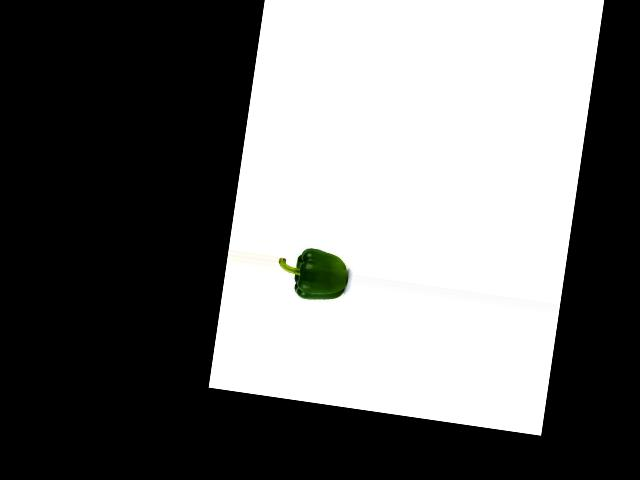bell_pepper: (274, 243, 351, 312)
